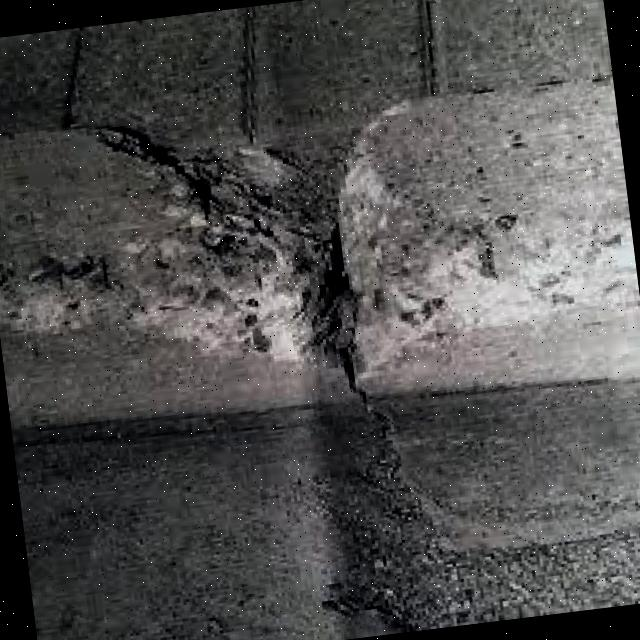curb: (1, 121, 359, 432), (333, 81, 640, 392)
